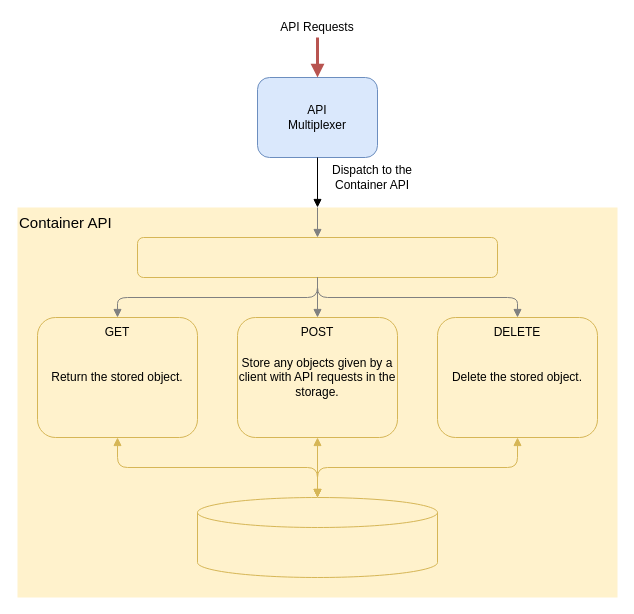
The diagram is 634 pixels wide and 614 high, and some of its shapes have lost their labels. Here are the shapes that lost their labels. From the top down, the centre of each, then its label:
(317,257): Serve ( context.Context, *Requests ) ( *Response, error )
(317,537): Storage (any objects)
